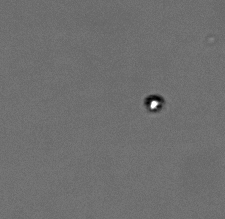Living Cell: (144, 93, 165, 113)
